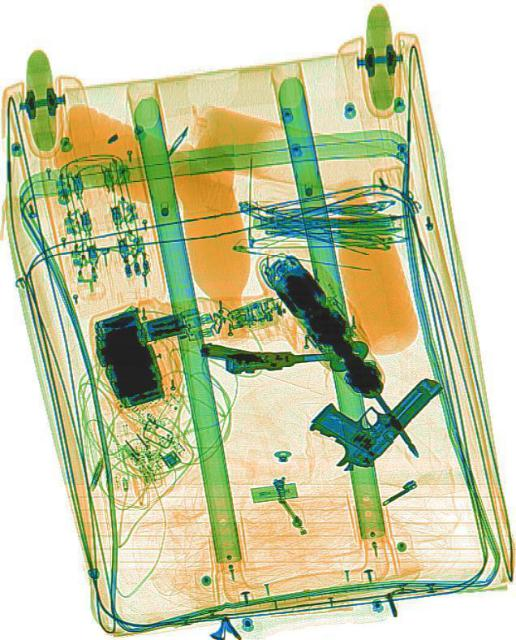Gun: (303, 326, 440, 484), (198, 323, 332, 379)
